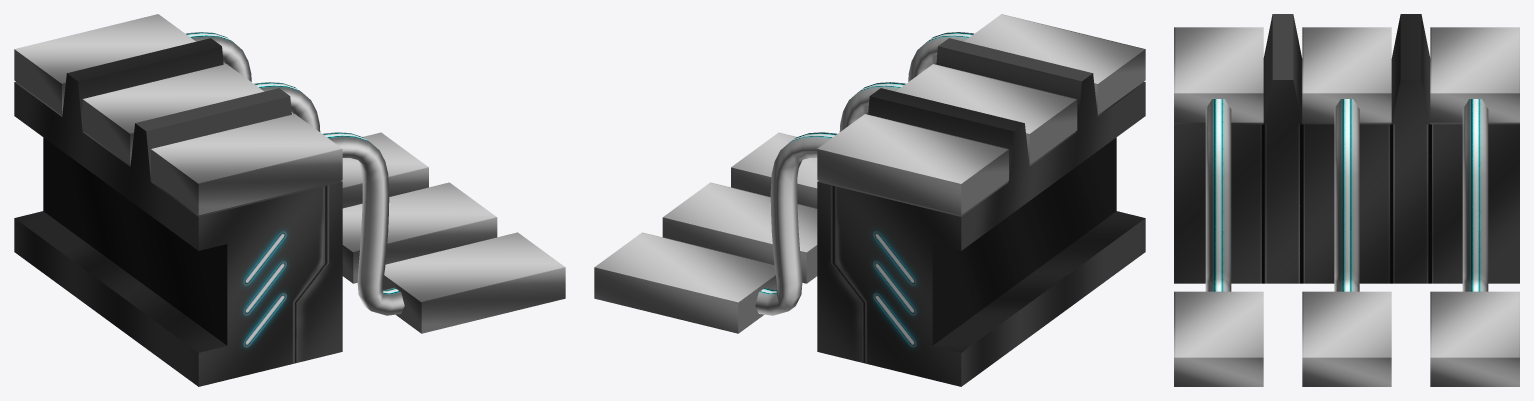
File: battel.fbx
The picture shows the model from 3 angles, left to right: view 1: azimuth 30°, elevation 25°; view 2: azimuth 150°, elevation 25°; view 3: azimuth 270°, elevation 25°; orthographic projection. The views are drawn at different scales.
Parts seen in each view (by area): view 1: pCube54; view 2: pCube54; view 3: pCube54.
Boxes of the visible parts, x1=… form: pCube54: x1=14, y1=14, x2=565, y2=386; pCube54: x1=594, y1=14, x2=1145, y2=386; pCube54: x1=1174, y1=14, x2=1519, y2=386.
Bounding box in the file's own units: 4.79 × 2.73 × 4.17.
1 material, 1 textured.
